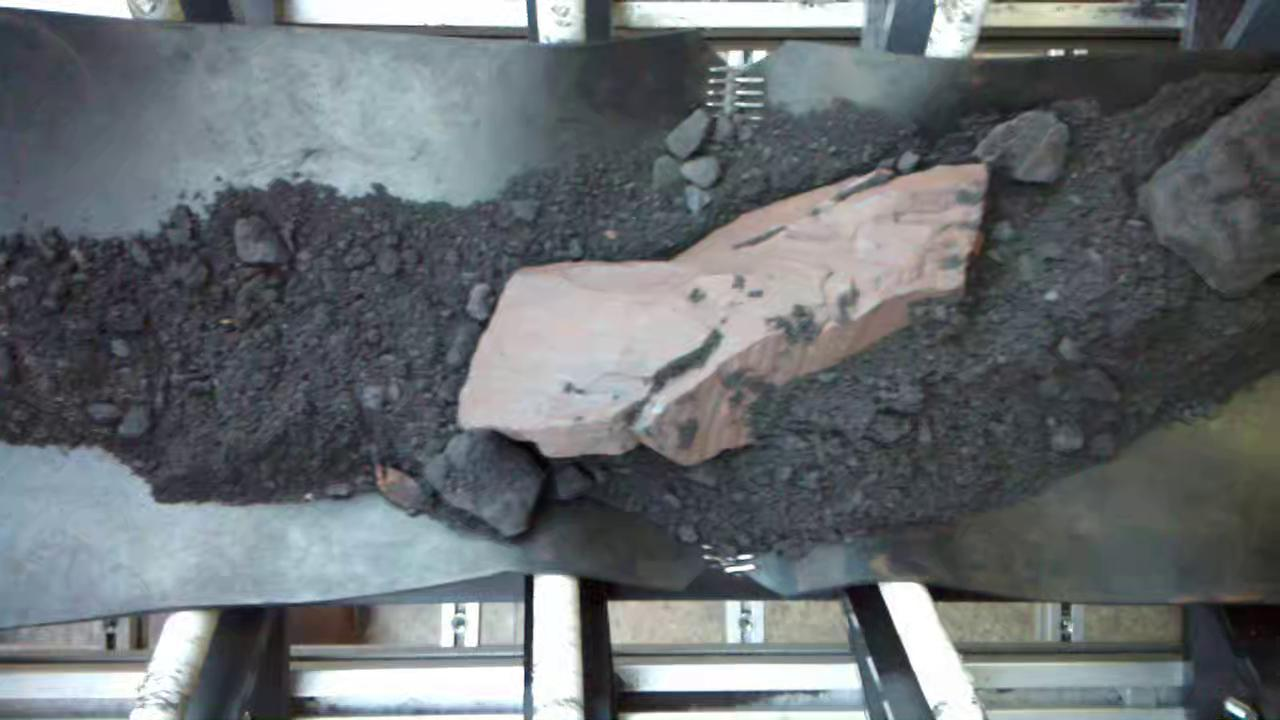conveyor: (3, 59, 1280, 587)
